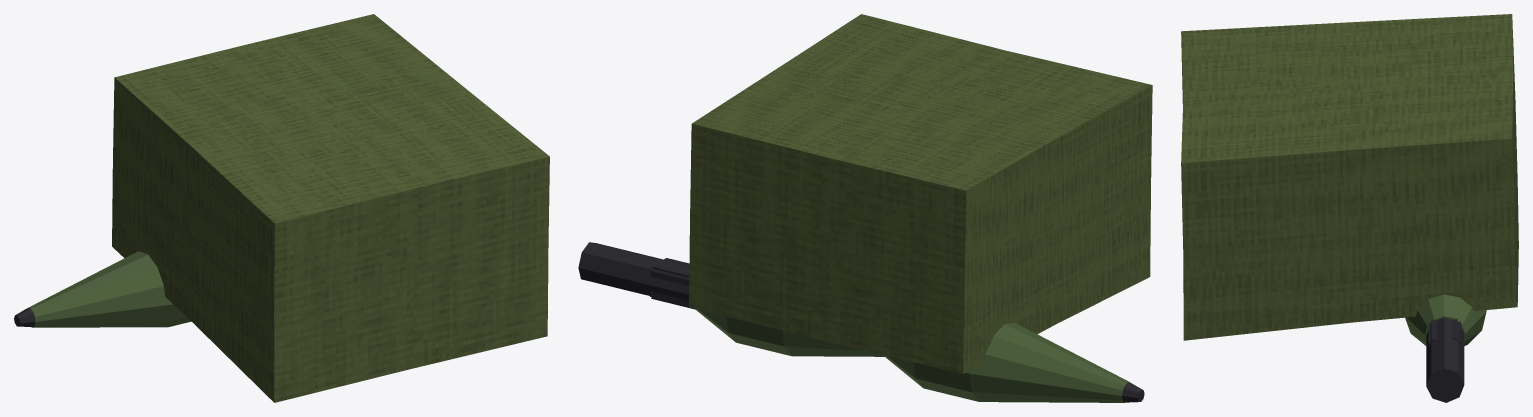
File: pack_rpg.glb
3 views of the same model, side by side, from view 1: azimuth 30°, elevation 25°; view 2: azimuth 150°, elevation 25°; view 3: azimuth 270°, elevation 25° (orthographic). The views are drawn at different scales.
Parts seen in each view (by area): view 1: pack_worn_rpg; view 2: pack_worn_rpg; view 3: pack_worn_rpg.
Part boxes in pixels (<box>): pack_worn_rpg: <box>14,14,549,402</box>; pack_worn_rpg: <box>578,14,1152,402</box>; pack_worn_rpg: <box>1181,14,1518,402</box>.
Size of the model in its own units: 0.6194 by 0.2547 by 0.3525.
Materials: 3 (1 with a texture image).
